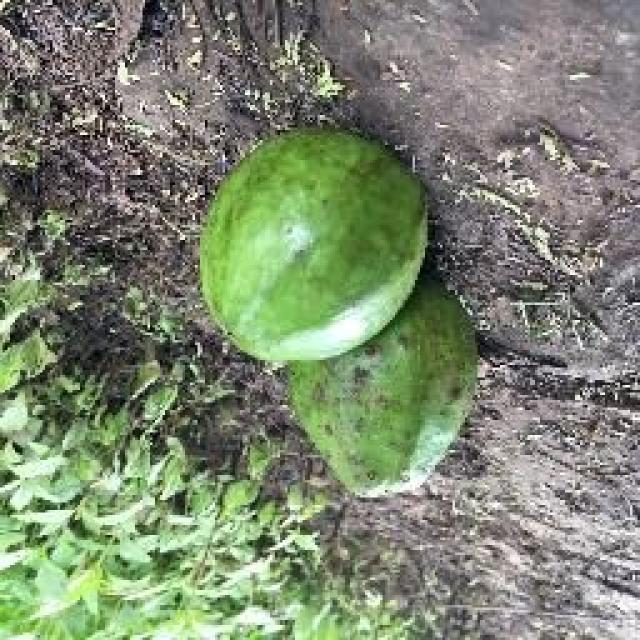Good_Guava: (198, 130, 428, 365)
